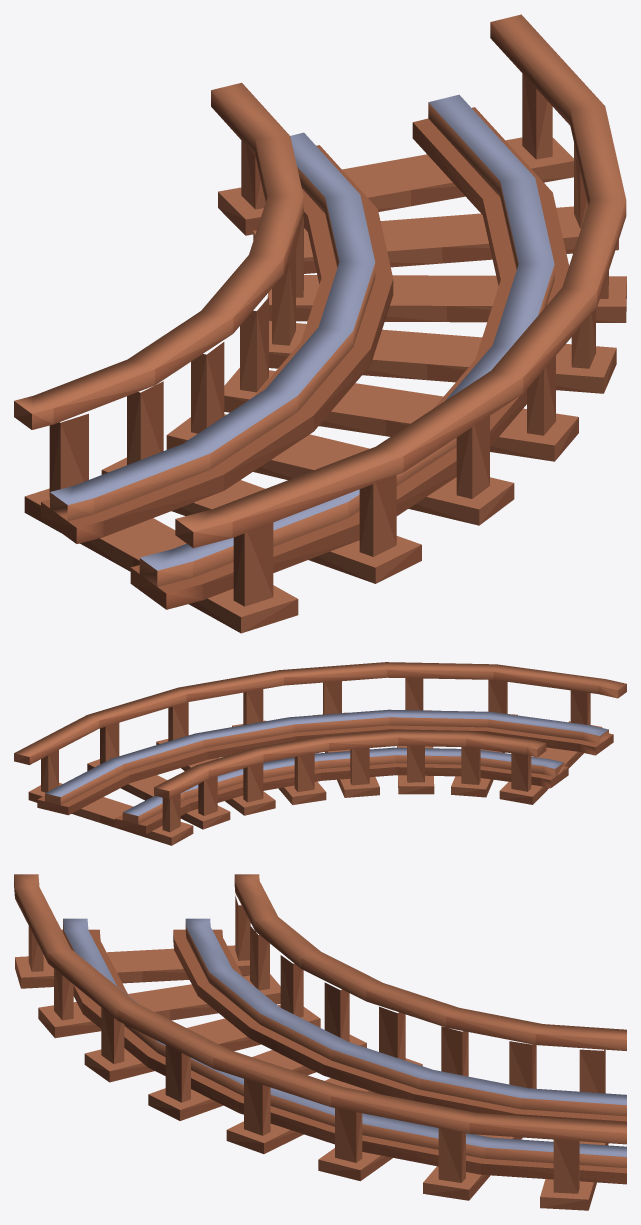
File: coaster_coaster_wood_corner_small.glb
3 renders of one model, top to bottom at view 1: azimuth 30°, elevation 25°; view 2: azimuth 150°, elevation 25°; view 3: azimuth 270°, elevation 25°, orthographic. The views are drawn at different scales.
Parts seen in each view (by area): view 1: coaster_coaster_wood_corner_small; view 2: coaster_coaster_wood_corner_small; view 3: coaster_coaster_wood_corner_small.
Boxes of the visible parts, box(x1,y1,x2,y2) form: coaster_coaster_wood_corner_small: box(14, 14, 626, 633); coaster_coaster_wood_corner_small: box(14, 662, 626, 845); coaster_coaster_wood_corner_small: box(14, 874, 626, 1210).
Size of the model in its own units: 2.5 by 0.35 by 2.5.
